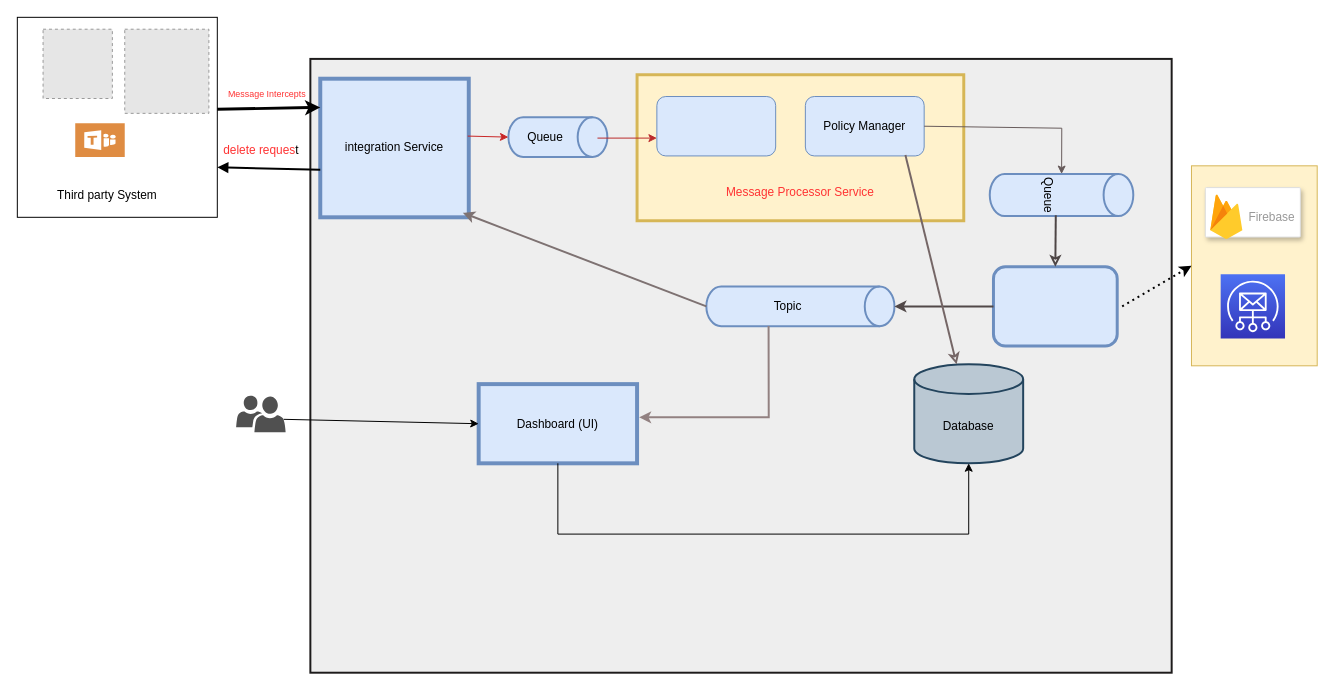
Some shapes in this 1335 by 691 pixel diagram are drawn without their labels. Grey dashed boxes stand in for pictures. The shapes that lost their labels are listed below. From the top down, each one's centre as x and y in pixels, then its label:
At [716,126]: "Message Interpreter".
At [1054,306]: "Notification Service".
At [260,413]: "admin/operator".
